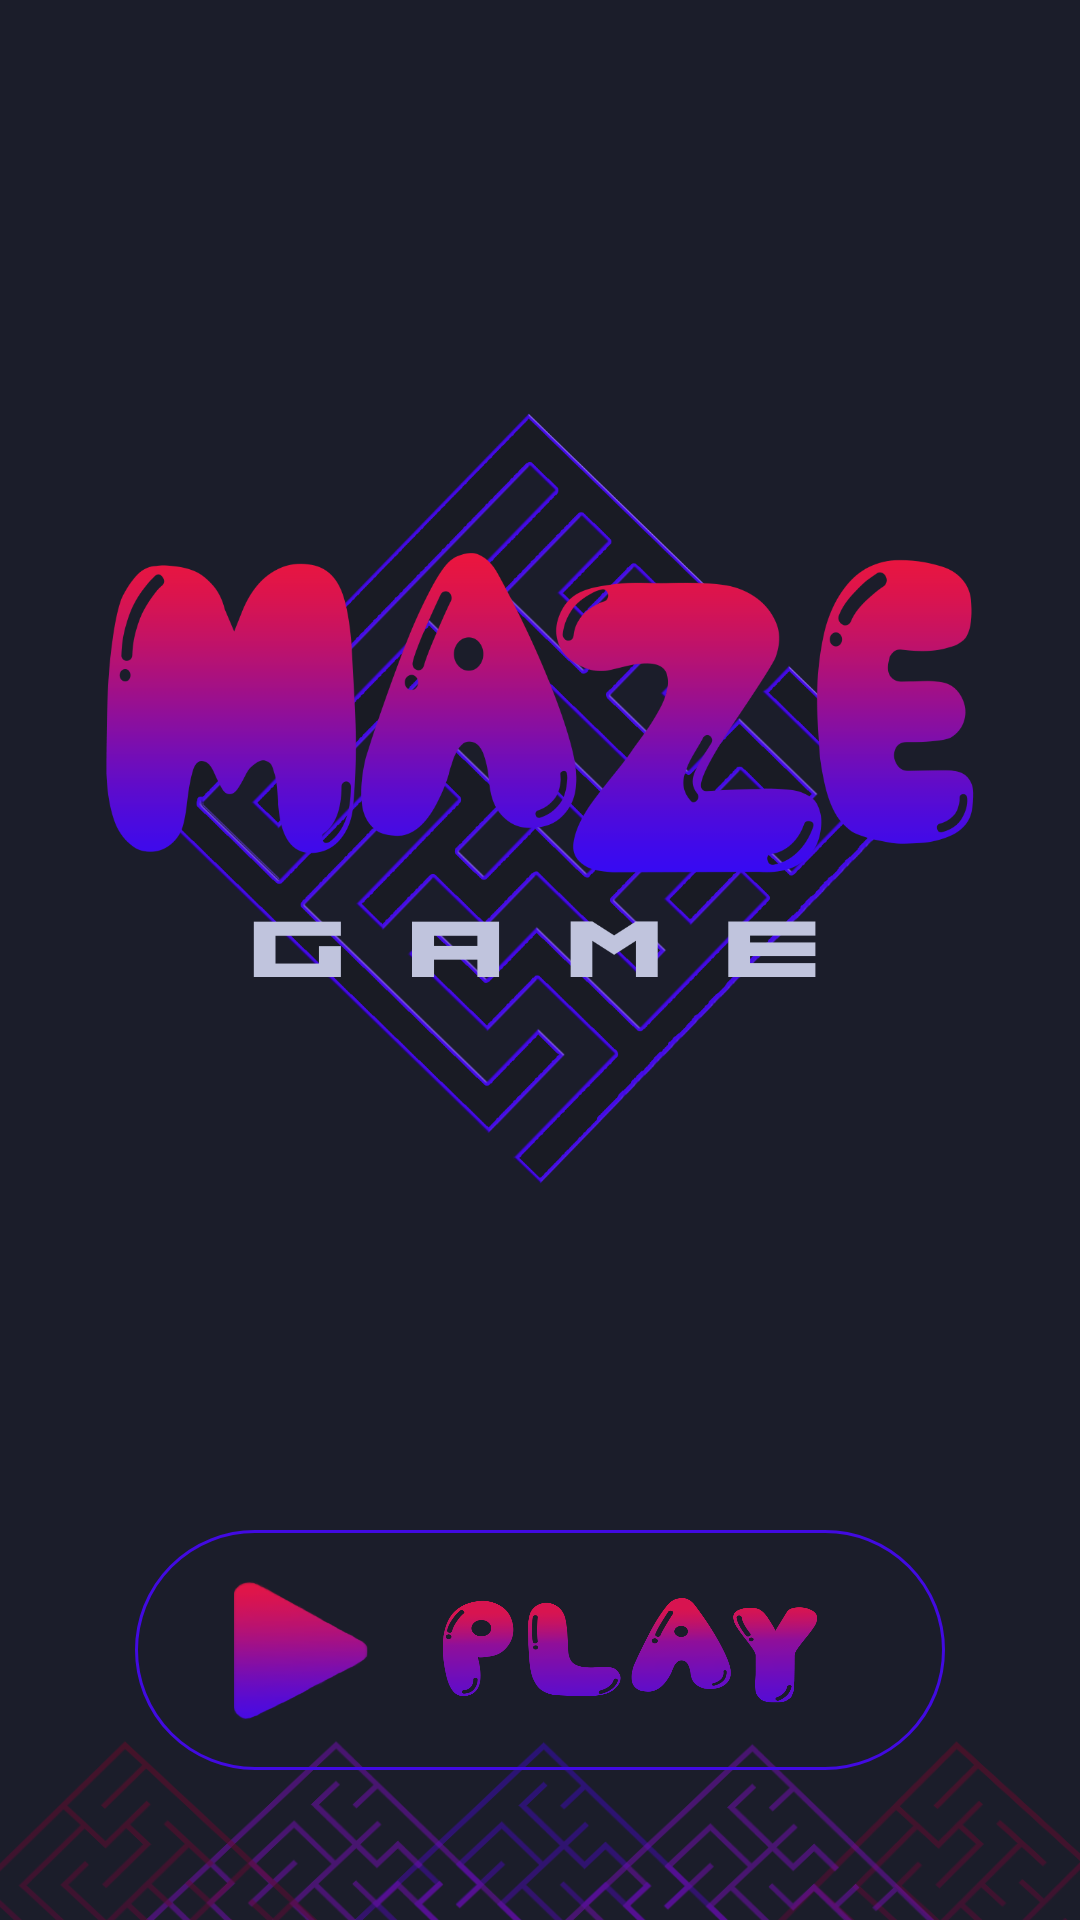

Icon bounding boxes for this 1080w x 1920h phone screenshot, format (x1, y1, x2, y2):
play: (234, 1582, 368, 1719)
